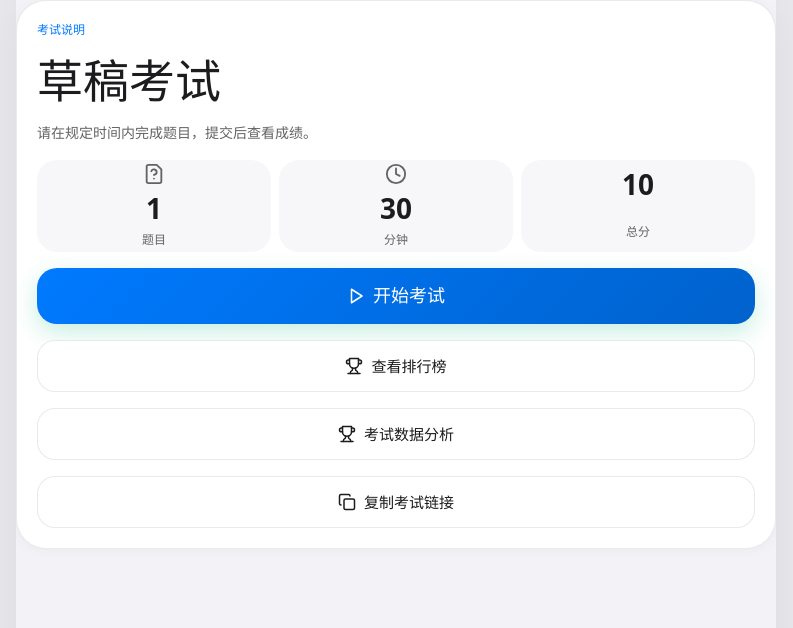
ExamDetail › copies a published exam's real detail URL
Click the button with test id "exam-detail-share". click: coordinates (396, 502)
box: [37,476,755,528]
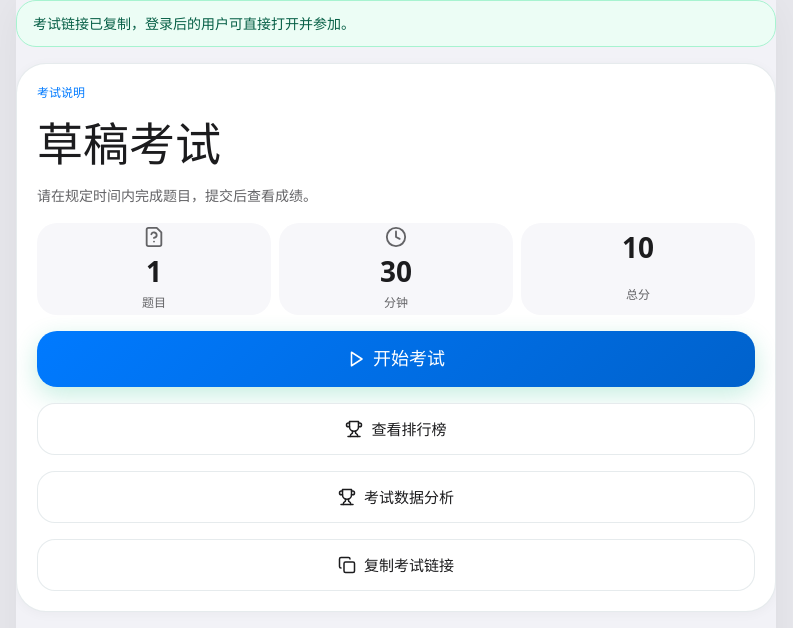
Now the text "考试链接已复制" is shown, box [33,14,355,33]
